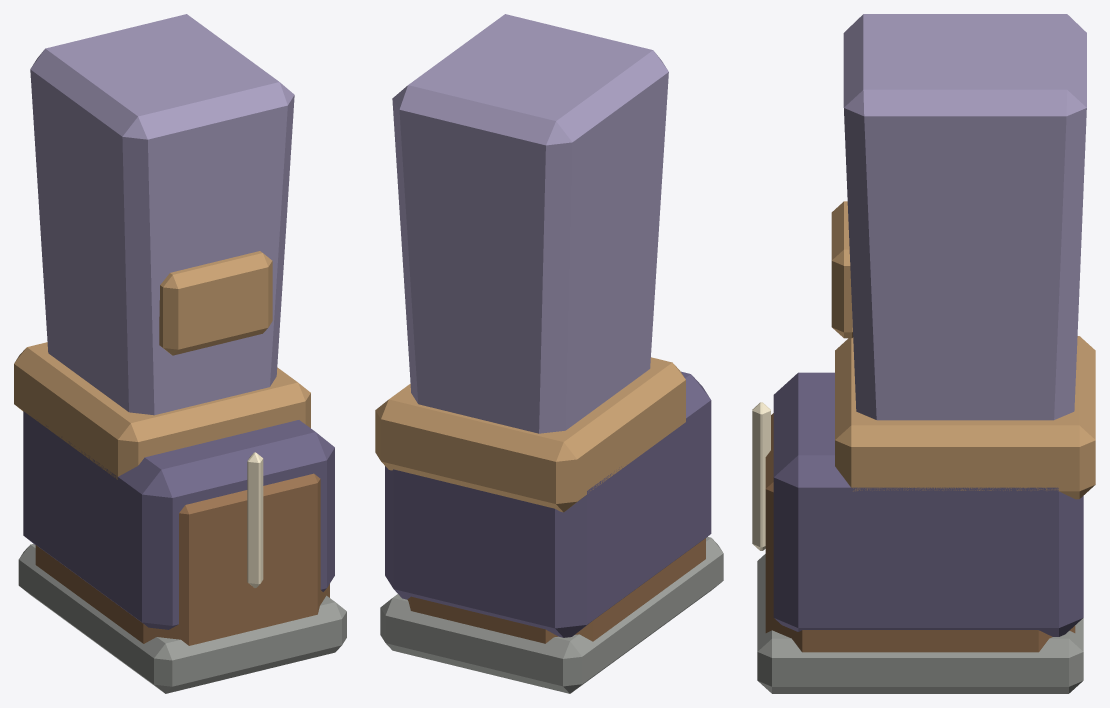
Rendered from Oracle_Peasant_RightLeg.fbx.
3 views of the same model, side by side, from view 1: azimuth 30°, elevation 25°; view 2: azimuth 150°, elevation 25°; view 3: azimuth 270°, elevation 25° (orthographic). The views are drawn at different scales.
Visible parts, largest first — view 1: Oracle_Peasant_RightLeg; view 2: Oracle_Peasant_RightLeg; view 3: Oracle_Peasant_RightLeg.
Boxes of the visible parts, x1,y1,x2,y2 form: Oracle_Peasant_RightLeg: (14, 14, 346, 693); Oracle_Peasant_RightLeg: (375, 14, 723, 693); Oracle_Peasant_RightLeg: (752, 14, 1095, 693).
Bounding box in the file's own units: 30 × 80.75 × 42.15.
